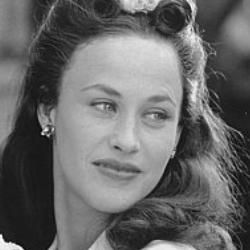face: (2, 1, 246, 241)
